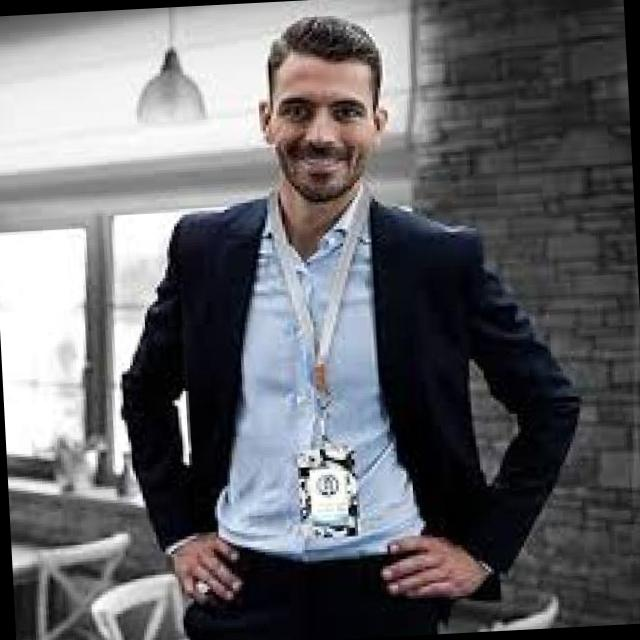id_card: (268, 171, 386, 538)
